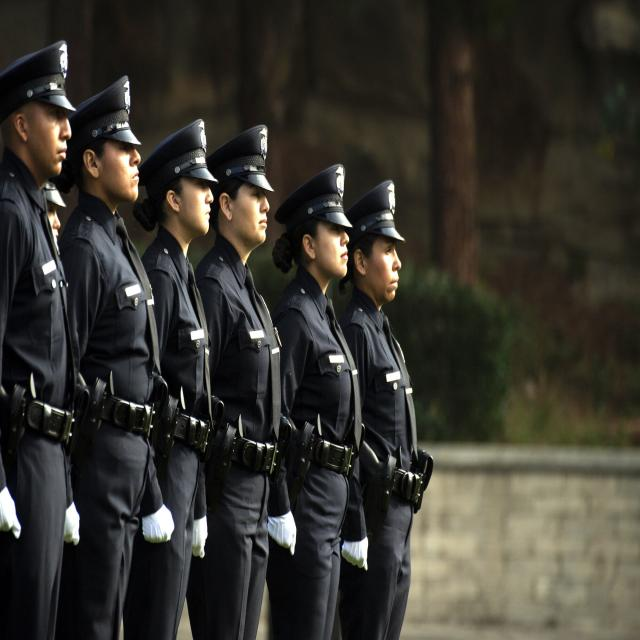police: (71, 62, 160, 640), (142, 106, 229, 640), (0, 22, 73, 640), (266, 157, 355, 638), (206, 113, 287, 640), (354, 167, 434, 640)
